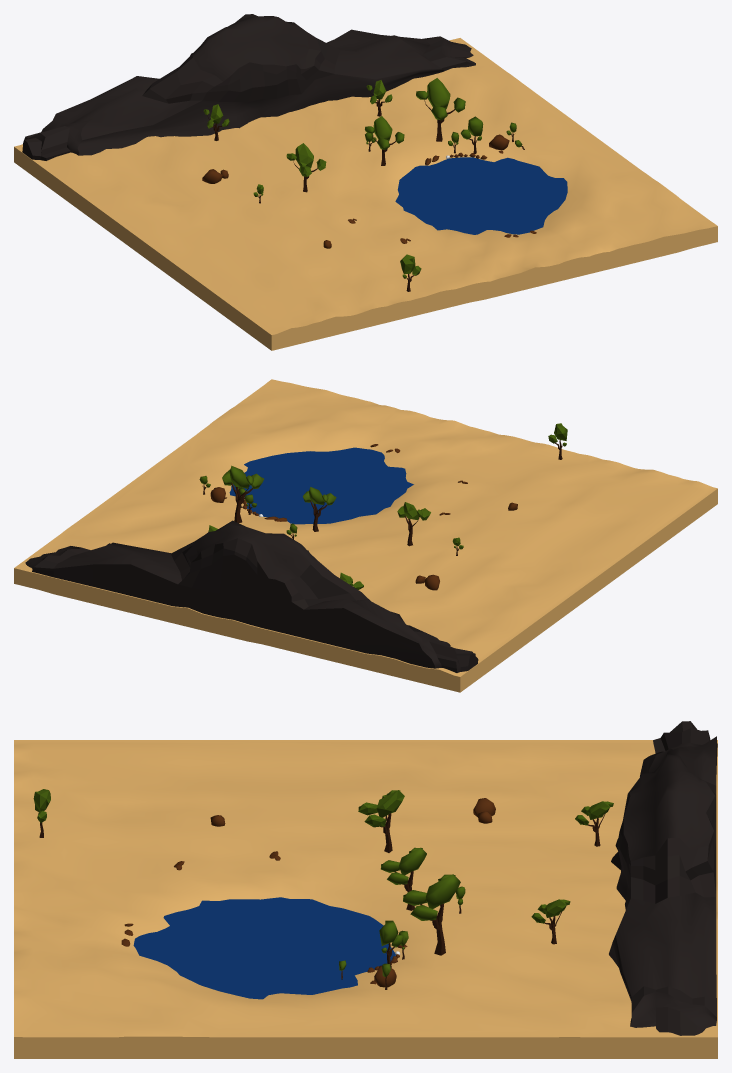
File: Wild.FBX
3 renders of one model, top to bottom at view 1: azimuth 30°, elevation 25°; view 2: azimuth 150°, elevation 25°; view 3: azimuth 270°, elevation 25°, orthographic. The views are drawn at different scales.
Parts seen in each view (by area): view 1: Box001, Box002, Box1055, Box2614; view 2: Box001, Box002, Box1055, Box2614; view 3: Box001, Box002, Box1055, Box2614, GeoSphere089, Box2638, Box2655.
Boxes of the visible parts, x1,y1,x2,y2 form: Box001: (14,38,717,350); Box002: (22,14,475,160); Box1055: (395,157,567,234); Box2614: (286,143,326,192); Box001: (14,379,717,692); Box002: (25,520,478,672); Box1055: (229,447,413,524); Box2614: (397,502,430,546); Box001: (14,740,717,1058); Box002: (609,721,717,1035); Box1055: (133,897,395,999); Box2614: (358,790,404,852); GeoSphere089: (426,874,460,908); Box2638: (575,801,613,846); Box2655: (531,899,570,944).
Bounding box in the file's own units: 1270 × 274 × 1270.
